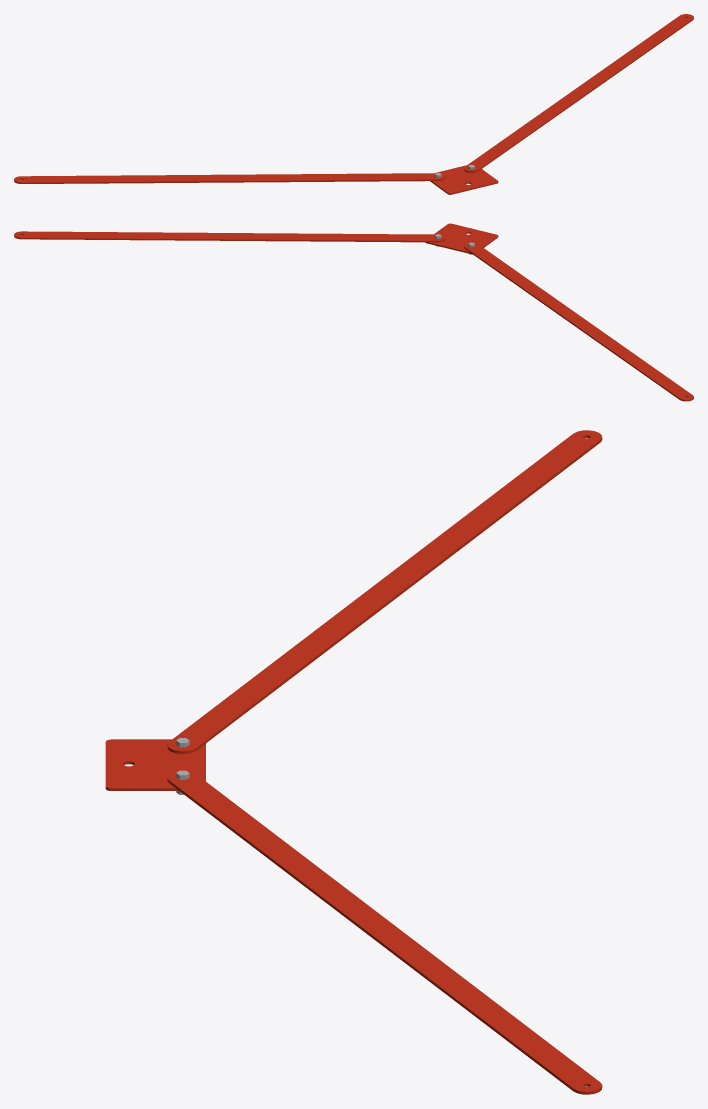
3 renders of one model, top to bottom at view 1: azimuth 30°, elevation 25°; view 2: azimuth 150°, elevation 25°; view 3: azimuth 270°, elevation 25°, orthographic. The views are drawn at different scales.
Parts seen in each view (by area): view 1: b4, b2, b6; view 2: b2, b4, b6; view 3: b4, b2, b6.
Part boxes in pixels (x1=…): b4: x1=14, y1=173, x2=445, y2=183; b2: x1=464, y1=14, x2=693, y2=172; b6: x1=430, y1=165, x2=498, y2=194; b2: x1=14, y1=231, x2=445, y2=242; b4: x1=464, y1=243, x2=693, y2=401; b6: x1=425, y1=223, x2=498, y2=254; b4: x1=167, y1=430, x2=602, y2=753; b2: x1=167, y1=771, x2=602, y2=1094; b6: x1=105, y1=739, x2=205, y2=790.
Bounding box in the file's own units: 4060 × 57.5 × 1287.
